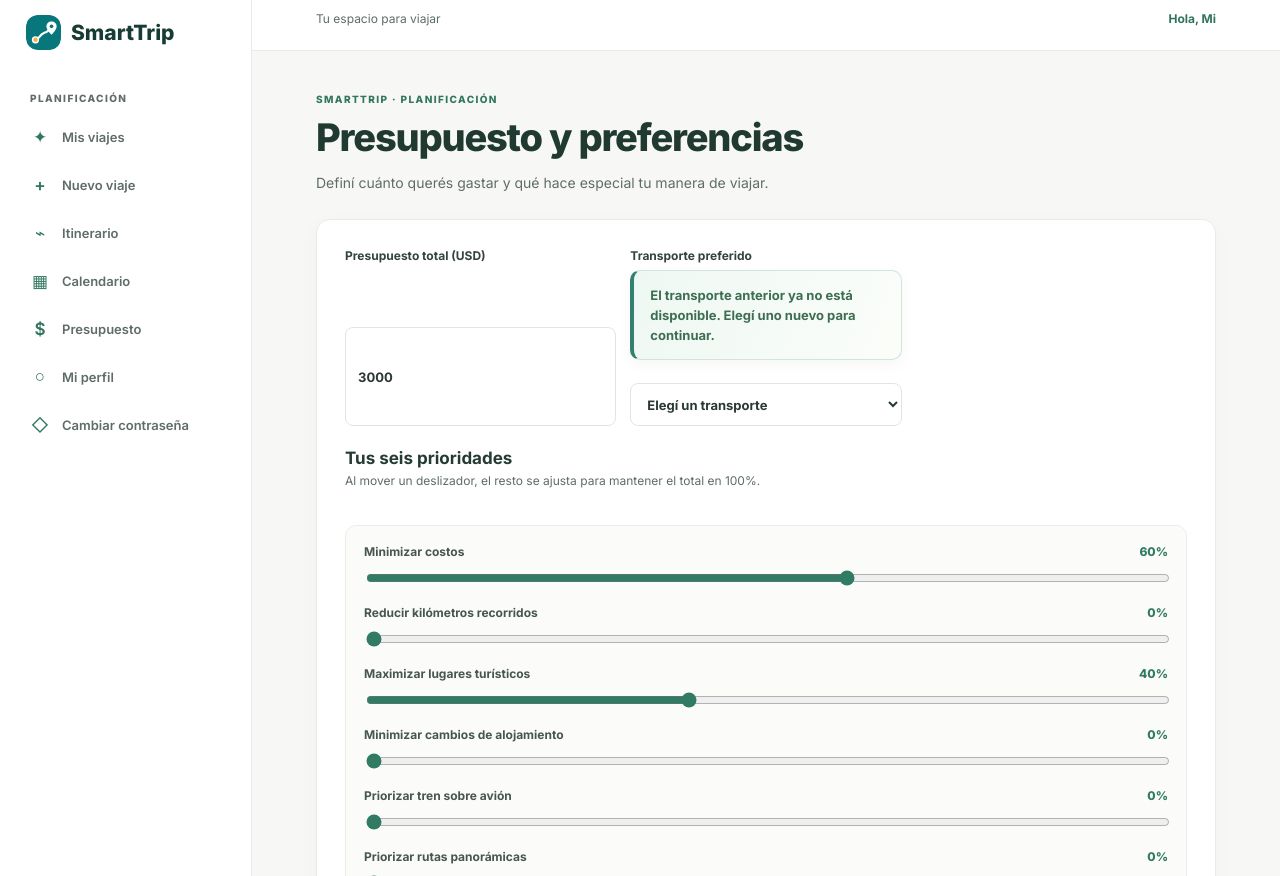
Test case: BudgetPreferences › asks the user to select a transport again when the saved preference is null
Check: the text "El transporte anterior ya no está disponible. Elegí uno nuevo para continuar." is shown, box left=630, top=270, right=902, bottom=360
Select "Auto" in the dropdown at (766,405), box left=630, top=383, right=902, bottom=426
(page scrolled)
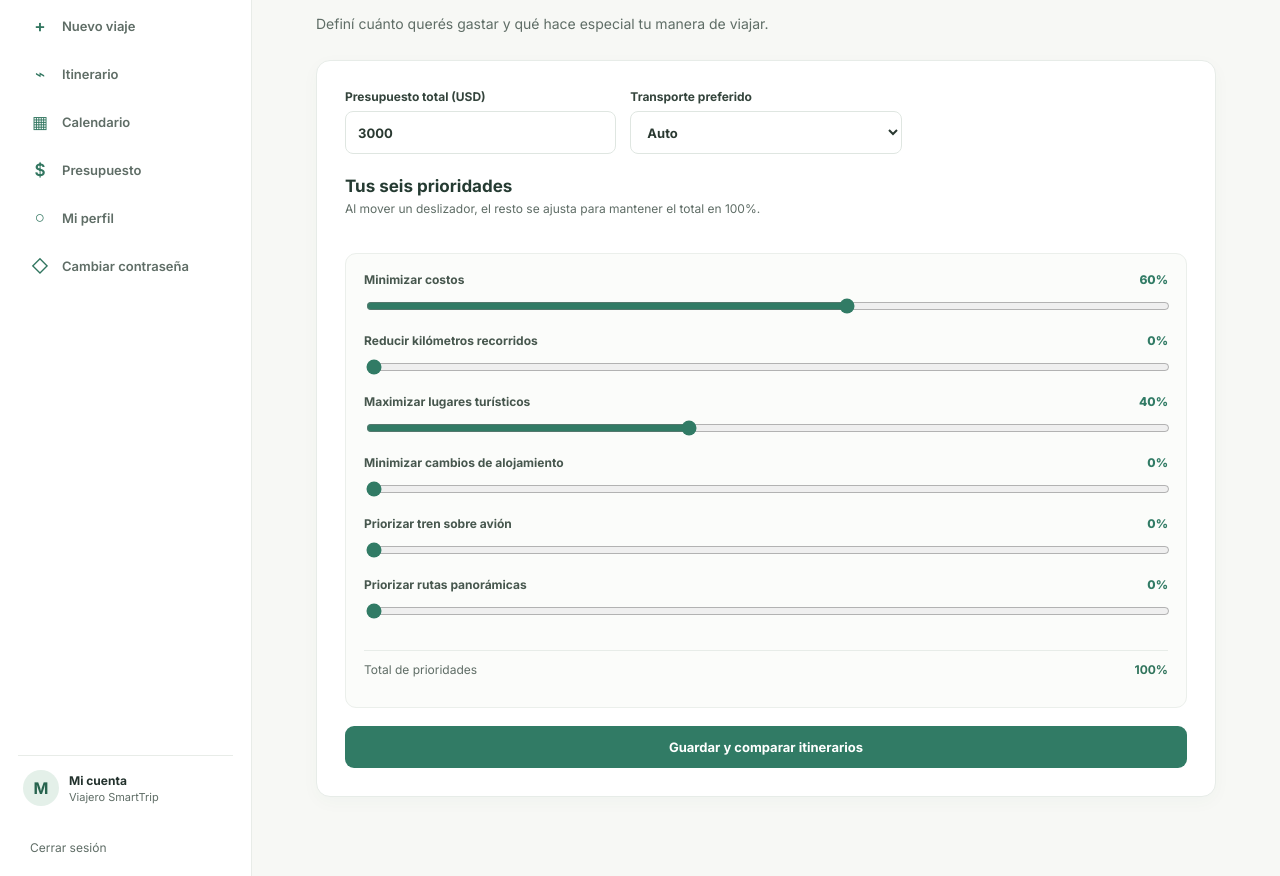
Check: the button "Guardar y comparar itinerarios" is enabled, box left=345, top=726, right=1187, bottom=768
